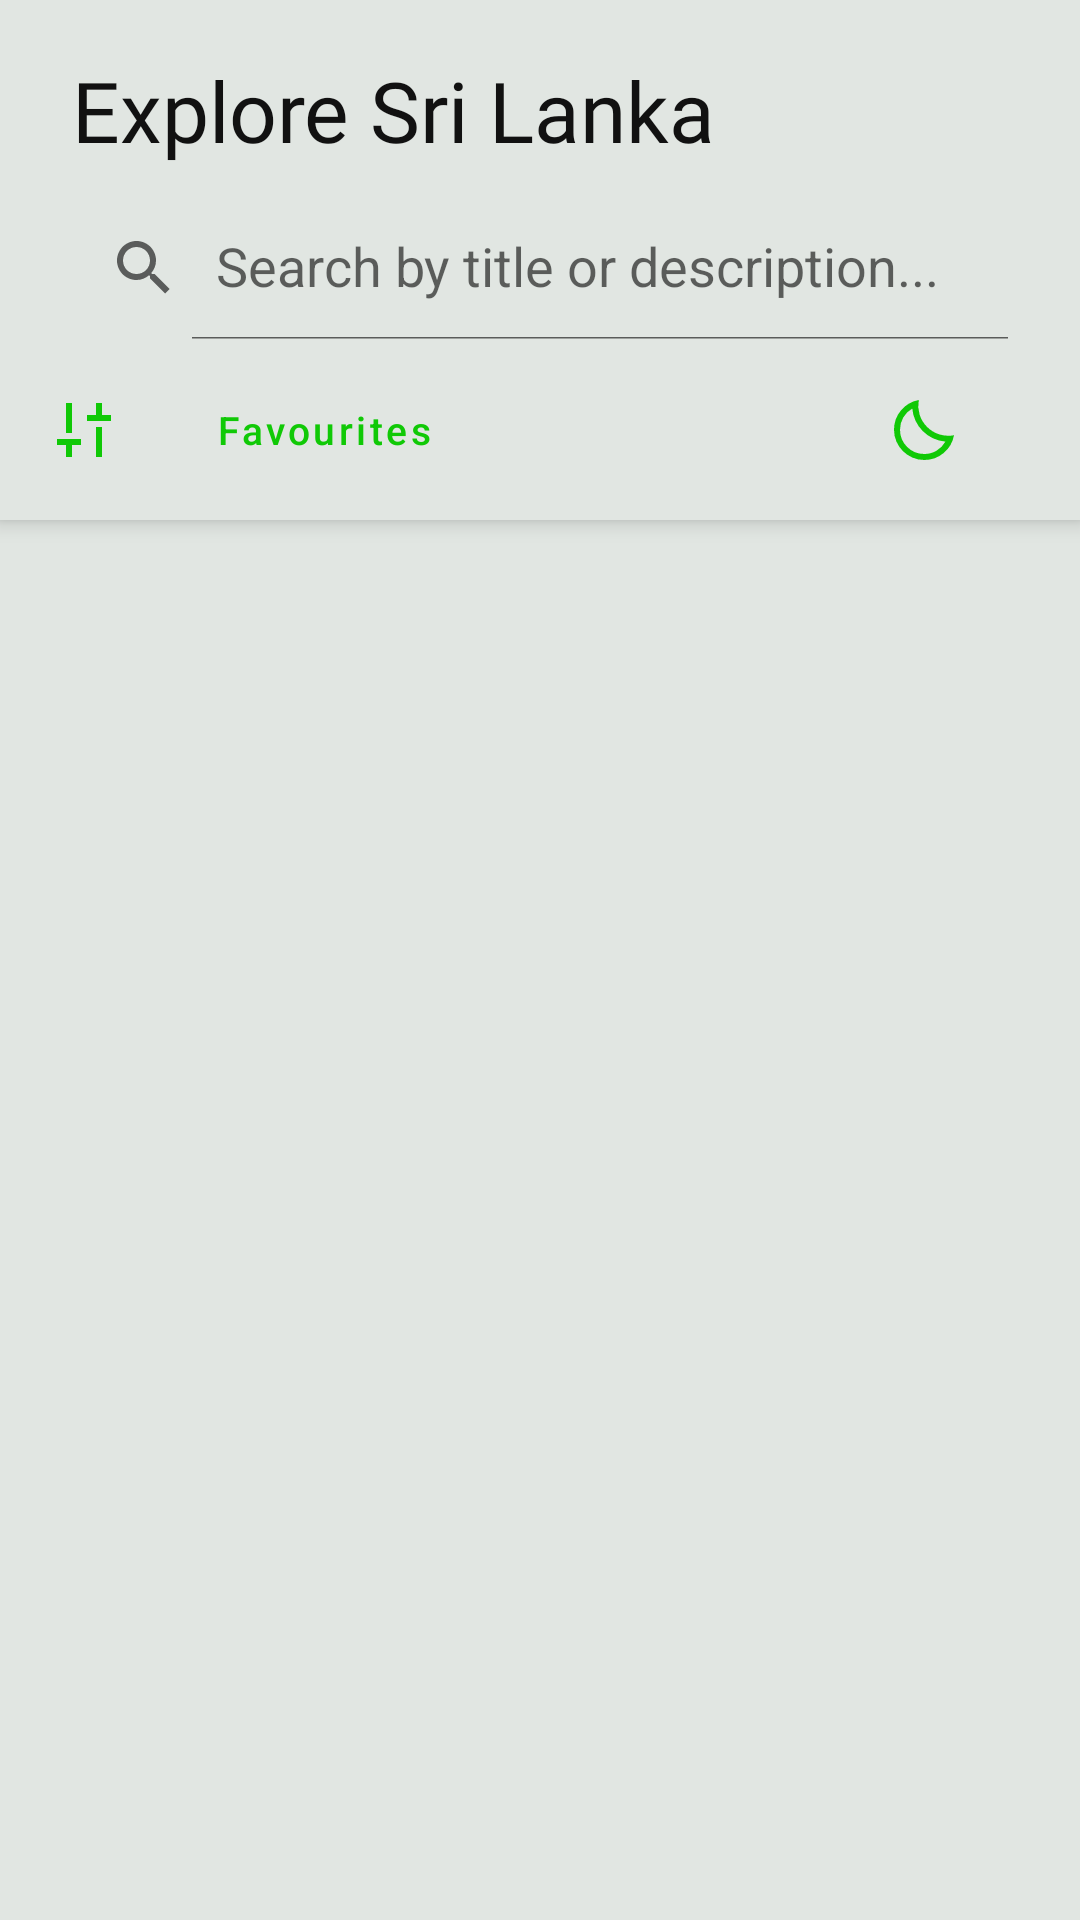

Where icons sit on this 1080*1920 app screen, as bbox(x1, y1, x2, y2):
Filter catalogue: bbox(57, 403, 111, 457)
Toggle dark mode: bbox(894, 400, 954, 460)
